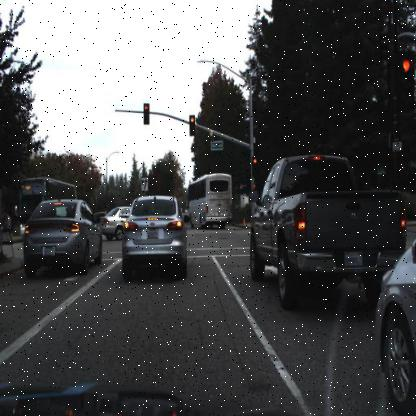car: (244, 152, 411, 310), (248, 147, 407, 308), (373, 231, 415, 415), (22, 199, 100, 275), (122, 194, 186, 280), (96, 204, 133, 240), (100, 206, 127, 238)
trafficLight-Red: (188, 112, 197, 138), (188, 115, 196, 134), (252, 153, 258, 176), (252, 154, 257, 178)
trafficLight-RedLeft: (142, 101, 149, 125)
truck: (18, 178, 80, 240), (189, 176, 233, 228), (20, 178, 75, 216)
